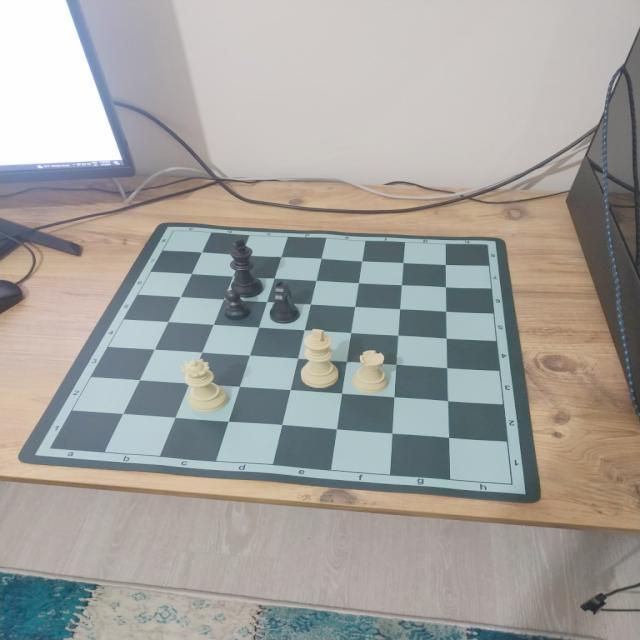chess-table-corners: (166, 224, 183, 237), (504, 478, 520, 490), (44, 442, 58, 454), (481, 240, 494, 250)
